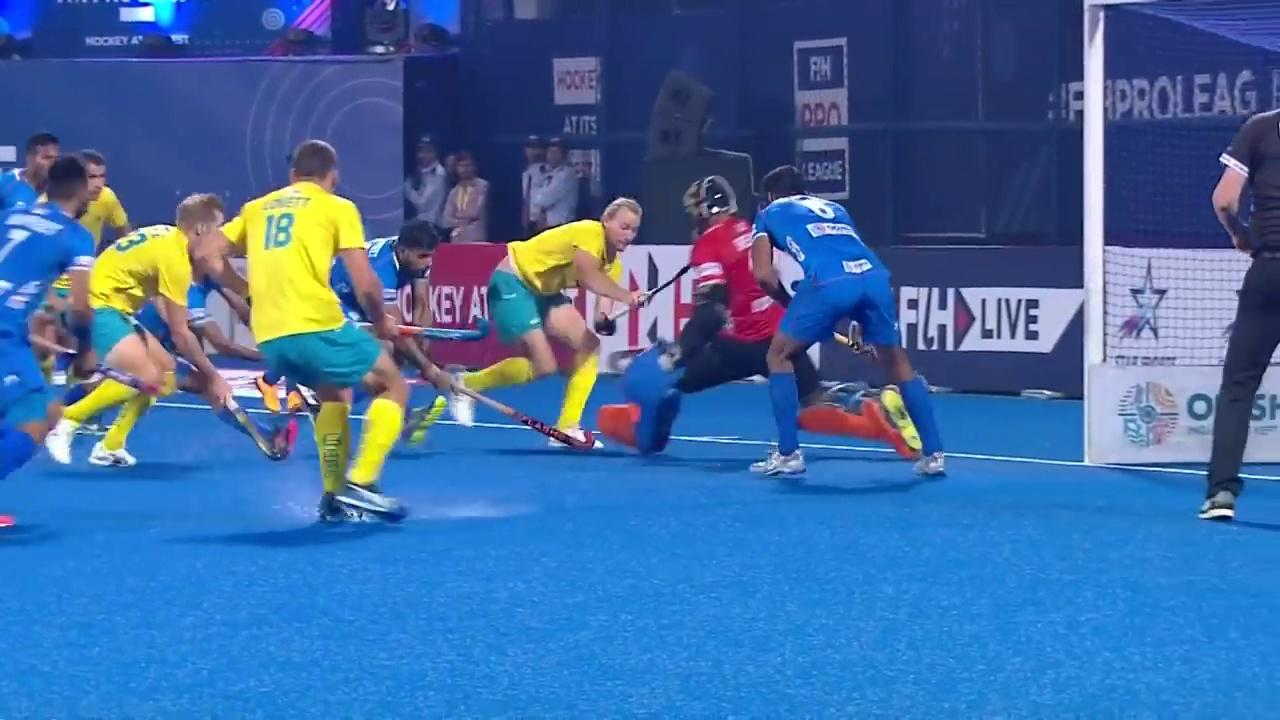ball: (576, 428, 611, 455)
